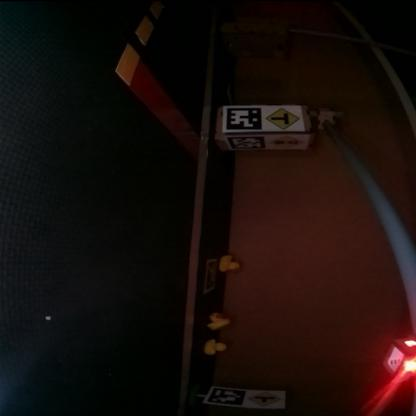Duckie: (208, 312, 230, 330), (204, 340, 228, 354), (220, 255, 241, 271)
Intersection sign: (268, 108, 301, 129), (249, 392, 282, 406)
QR code: (229, 107, 263, 131), (208, 388, 241, 404), (204, 258, 218, 293), (231, 136, 266, 149)
Signal sign: (271, 134, 307, 148)
Traffic light: (384, 338, 415, 378)
